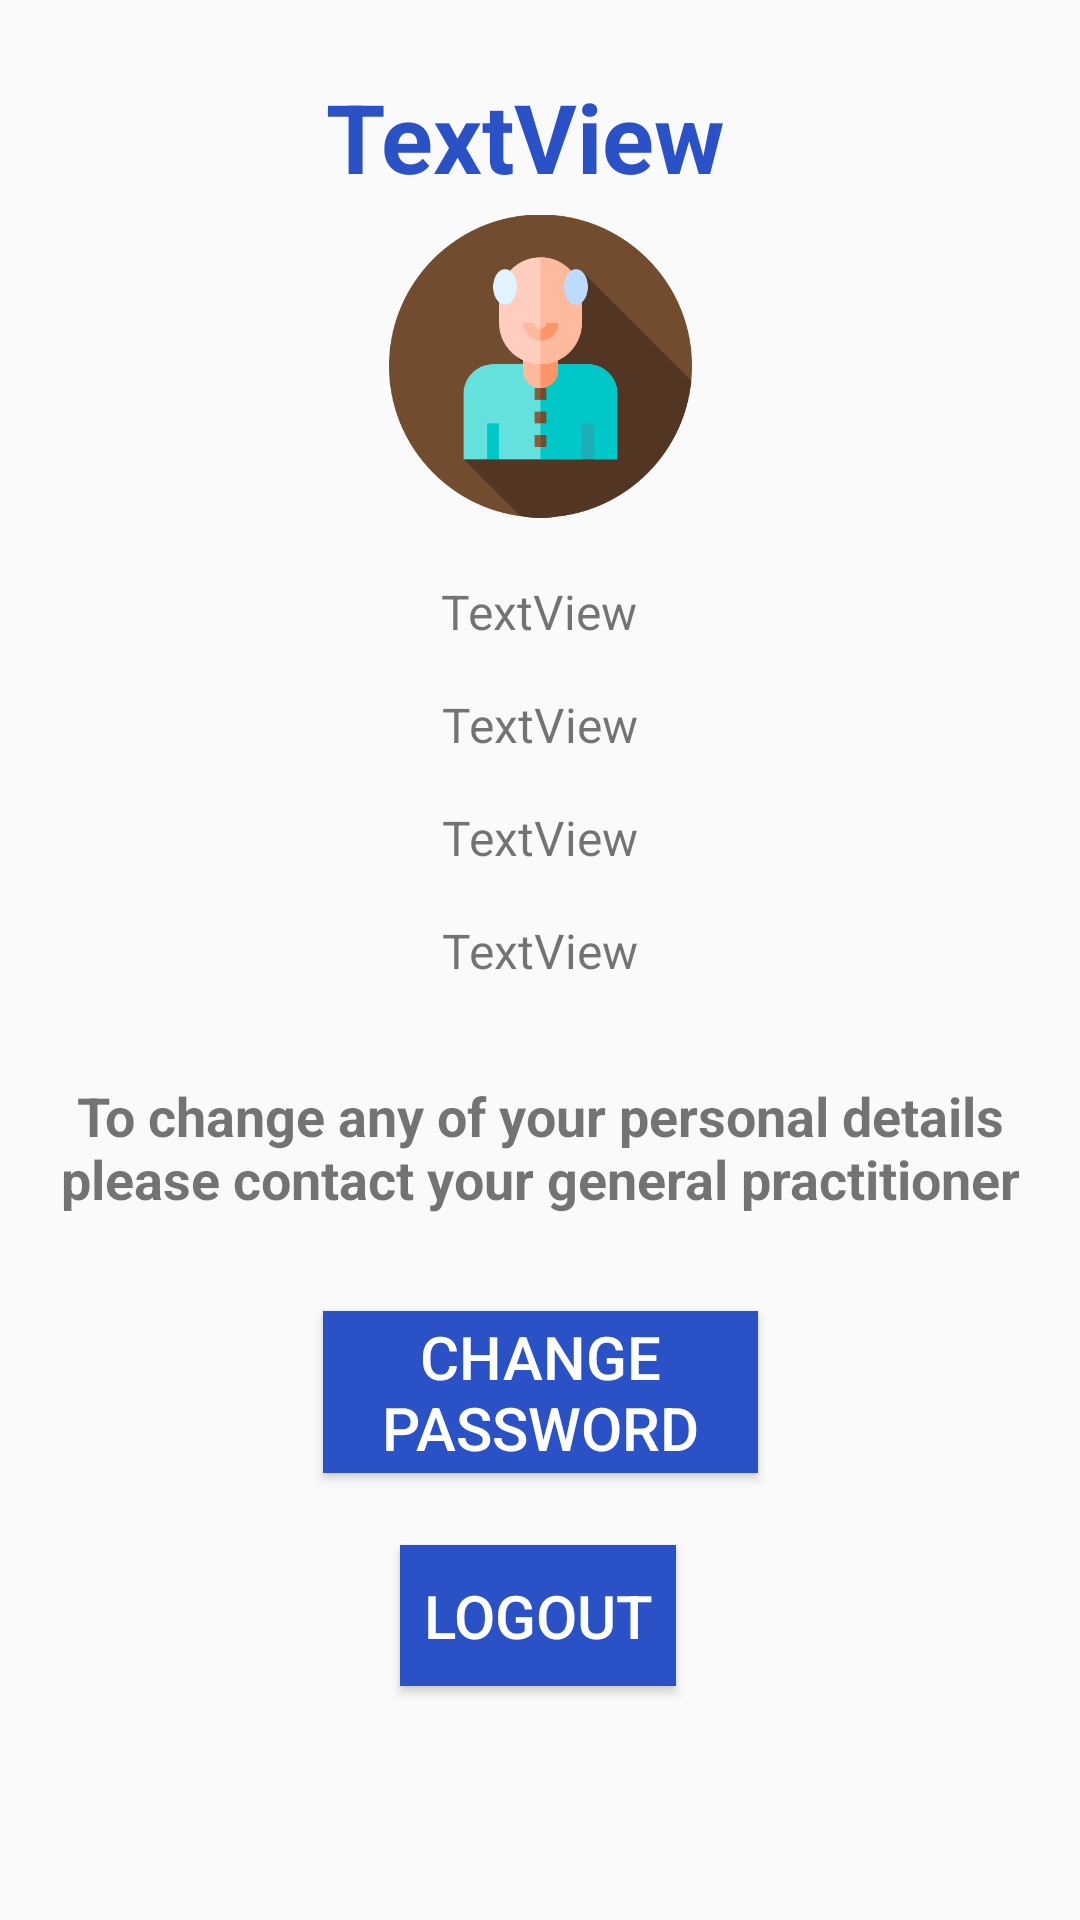

Icons on this 1080*1920 Android screen, each with its box as region(x1, y1, x2, y2):
account: region(389, 215, 692, 518)
